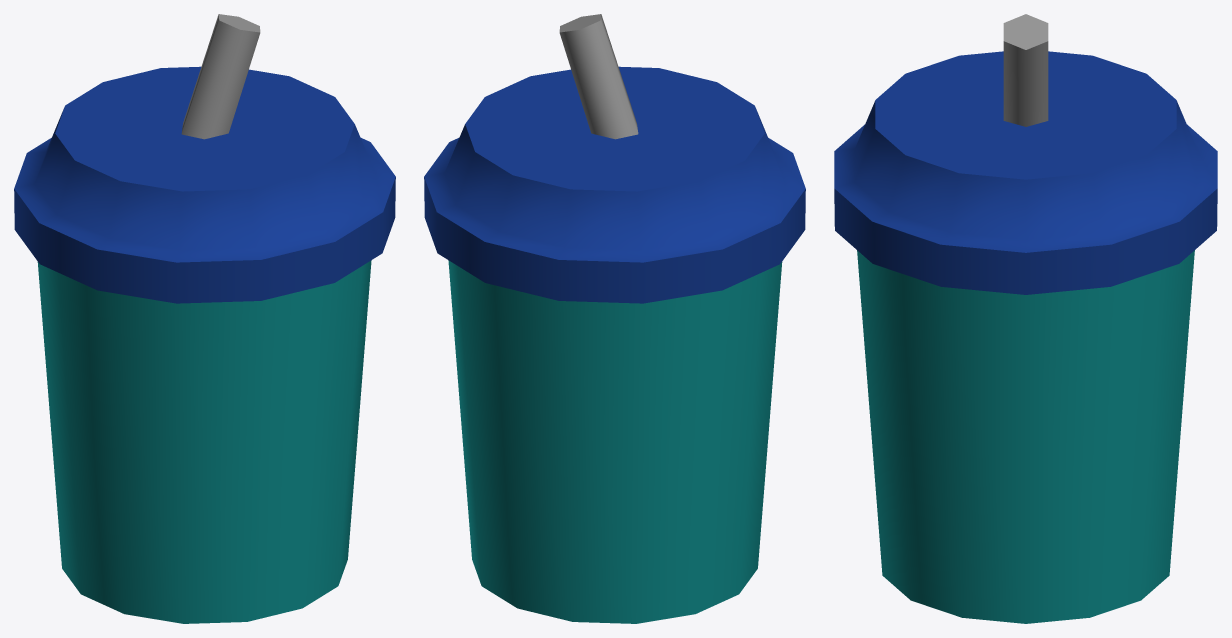
Rendered from dishes_milkshake_01.fbx.
The picture shows the model from 3 angles, left to right: view 1: azimuth 30°, elevation 25°; view 2: azimuth 150°, elevation 25°; view 3: azimuth 270°, elevation 25°; orthographic projection. The views are drawn at different scales.
Parts seen in each view (by area): view 1: dishes_milkshake_01; view 2: dishes_milkshake_01; view 3: dishes_milkshake_01.
Part boxes in pixels (box(x1,y1,x2,y2)): dishes_milkshake_01: box(14, 14, 395, 623); dishes_milkshake_01: box(424, 14, 805, 623); dishes_milkshake_01: box(834, 14, 1217, 623).
Size of the model in its own units: 32.95 by 51.3 by 32.13.
